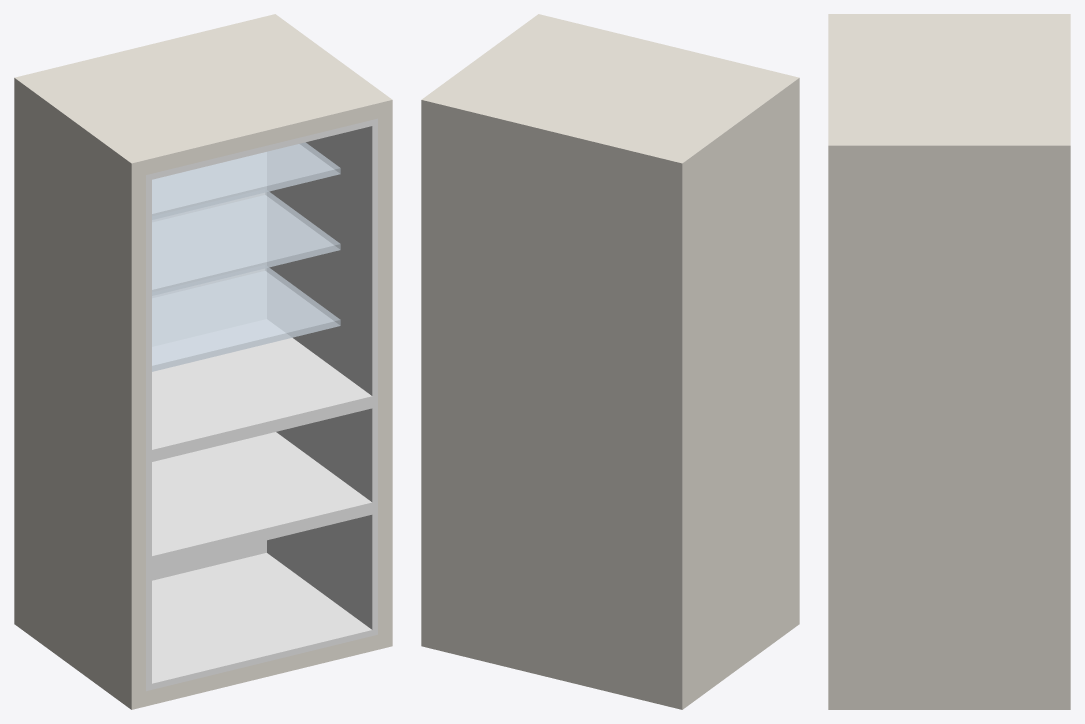
File: french_door_refrigerator.glb
3 renders of one model, left to right at view 1: azimuth 30°, elevation 25°; view 2: azimuth 150°, elevation 25°; view 3: azimuth 270°, elevation 25°, orthographic. The views are drawn at different scales.
Parts seen in each view (by area): view 1: french_door_refrigerator-main_body-BooleanDifference-Cube-cu, french_door_refrigerator-main_body-BooleanDifference-Cube-c, french_door_refrigerator-main_body-Cube-cube.001, french_door_refrigerator-shelves-Stacked Shapes-Cube-cube.00 (×2), french_door_refrigerator-main_body-Cube-cube, french_door_refrigerator-shelves-Stacked Shapes-Cube-cube; view 2: french_door_refrigerator-main_body-BooleanDifference-Cube-cu; view 3: french_door_refrigerator-main_body-BooleanDifference-Cube-cu.
Part boxes in pixels (bbox=[...]): french_door_refrigerator-main_body-BooleanDifference-Cube-cu: bbox=[14, 14, 392, 709]; french_door_refrigerator-main_body-BooleanDifference-Cube-c: bbox=[146, 118, 377, 691]; french_door_refrigerator-main_body-Cube-cube.001: bbox=[152, 319, 372, 461]; french_door_refrigerator-shelves-Stacked Shapes-Cube-cube.00 (×2): bbox=[152, 142, 340, 295]; french_door_refrigerator-main_body-Cube-cube: bbox=[152, 432, 372, 568]; french_door_refrigerator-shelves-Stacked Shapes-Cube-cube: bbox=[152, 267, 340, 371]; french_door_refrigerator-main_body-BooleanDifference-Cube-cu: bbox=[421, 14, 799, 709]; french_door_refrigerator-main_body-BooleanDifference-Cube-cu: bbox=[828, 14, 1070, 709].
Size of the model in its own units: 0.9 by 1.8 by 0.7.
